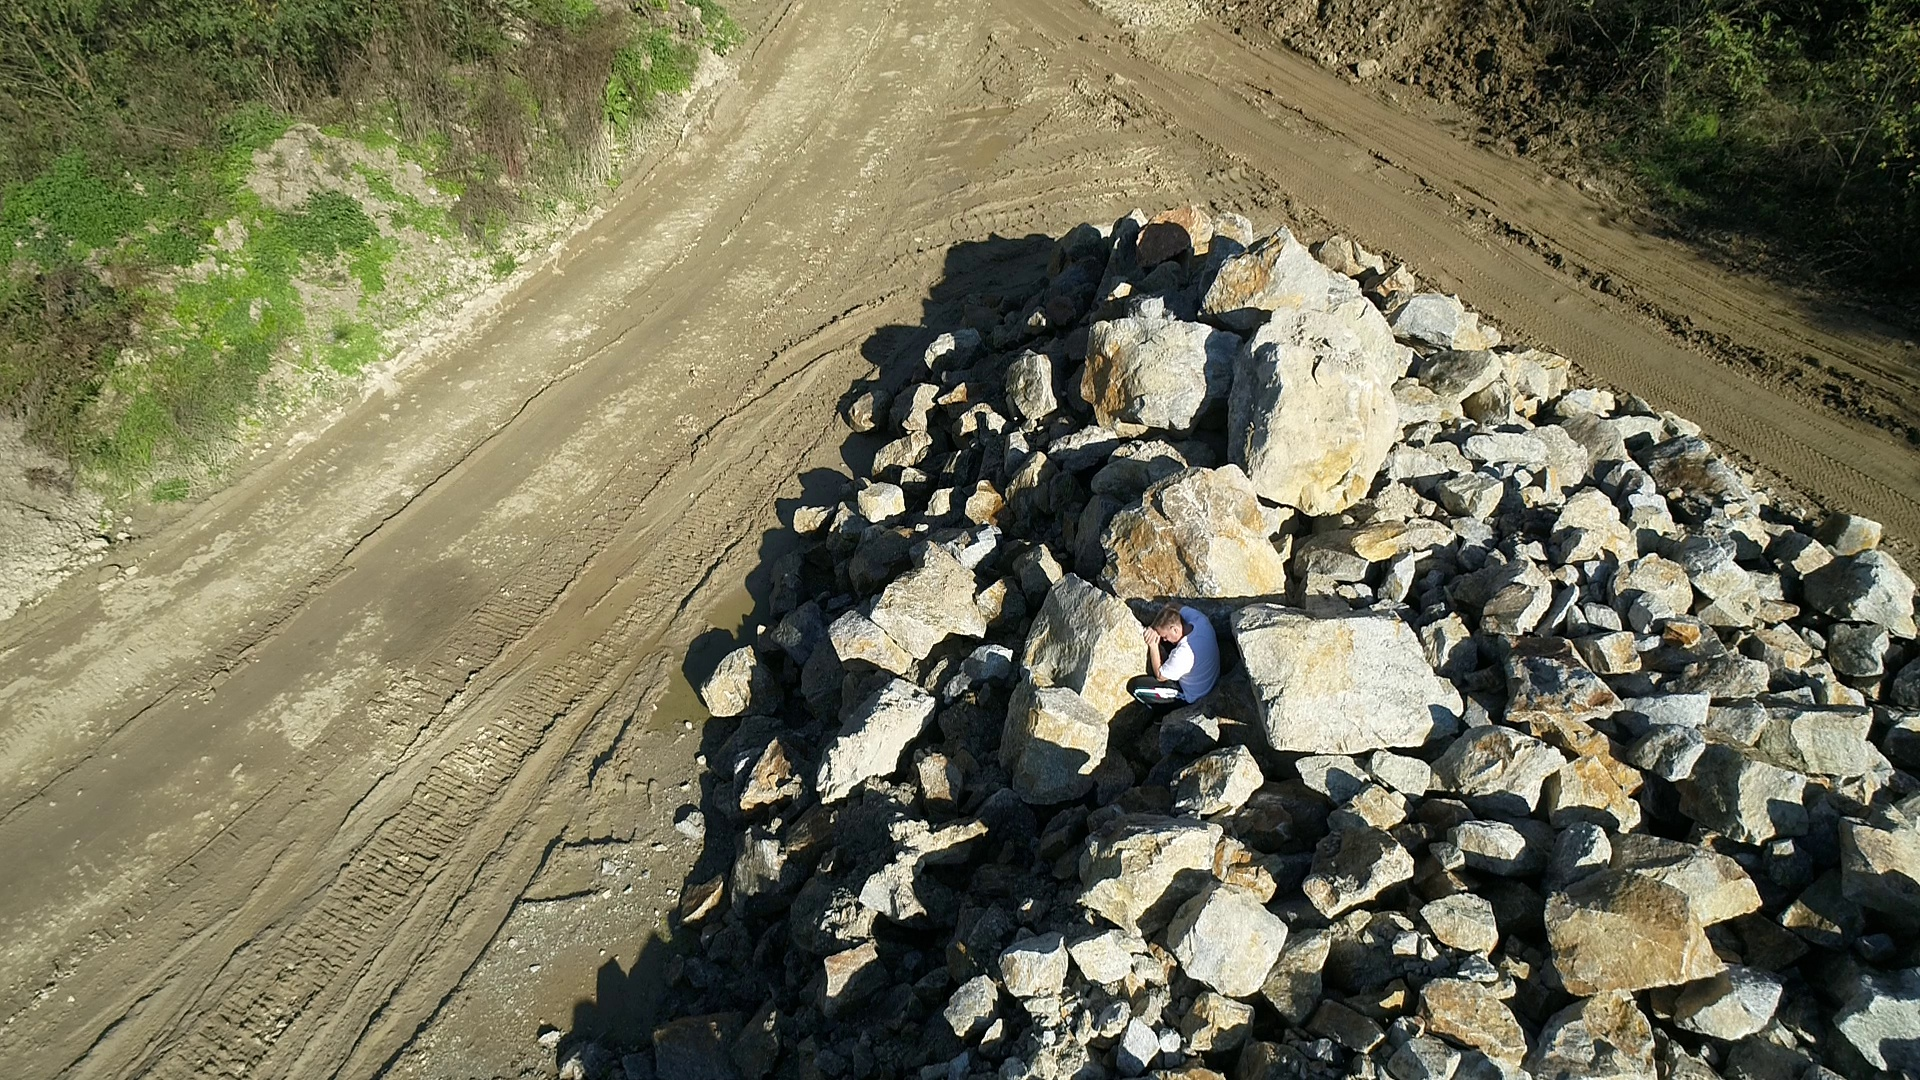person: (1126, 600, 1218, 718)
